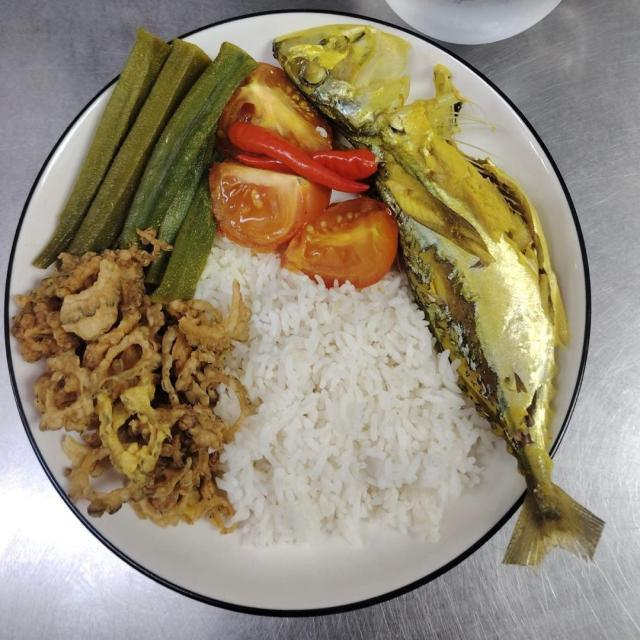Fish: (273, 16, 606, 571)
Plate: (7, 346, 524, 605)
Rice: (194, 242, 501, 550)
Vegetables: (10, 29, 403, 528)
